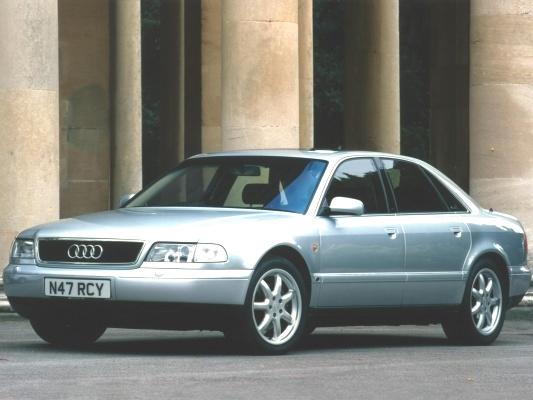Audi: (60, 241, 112, 263)
